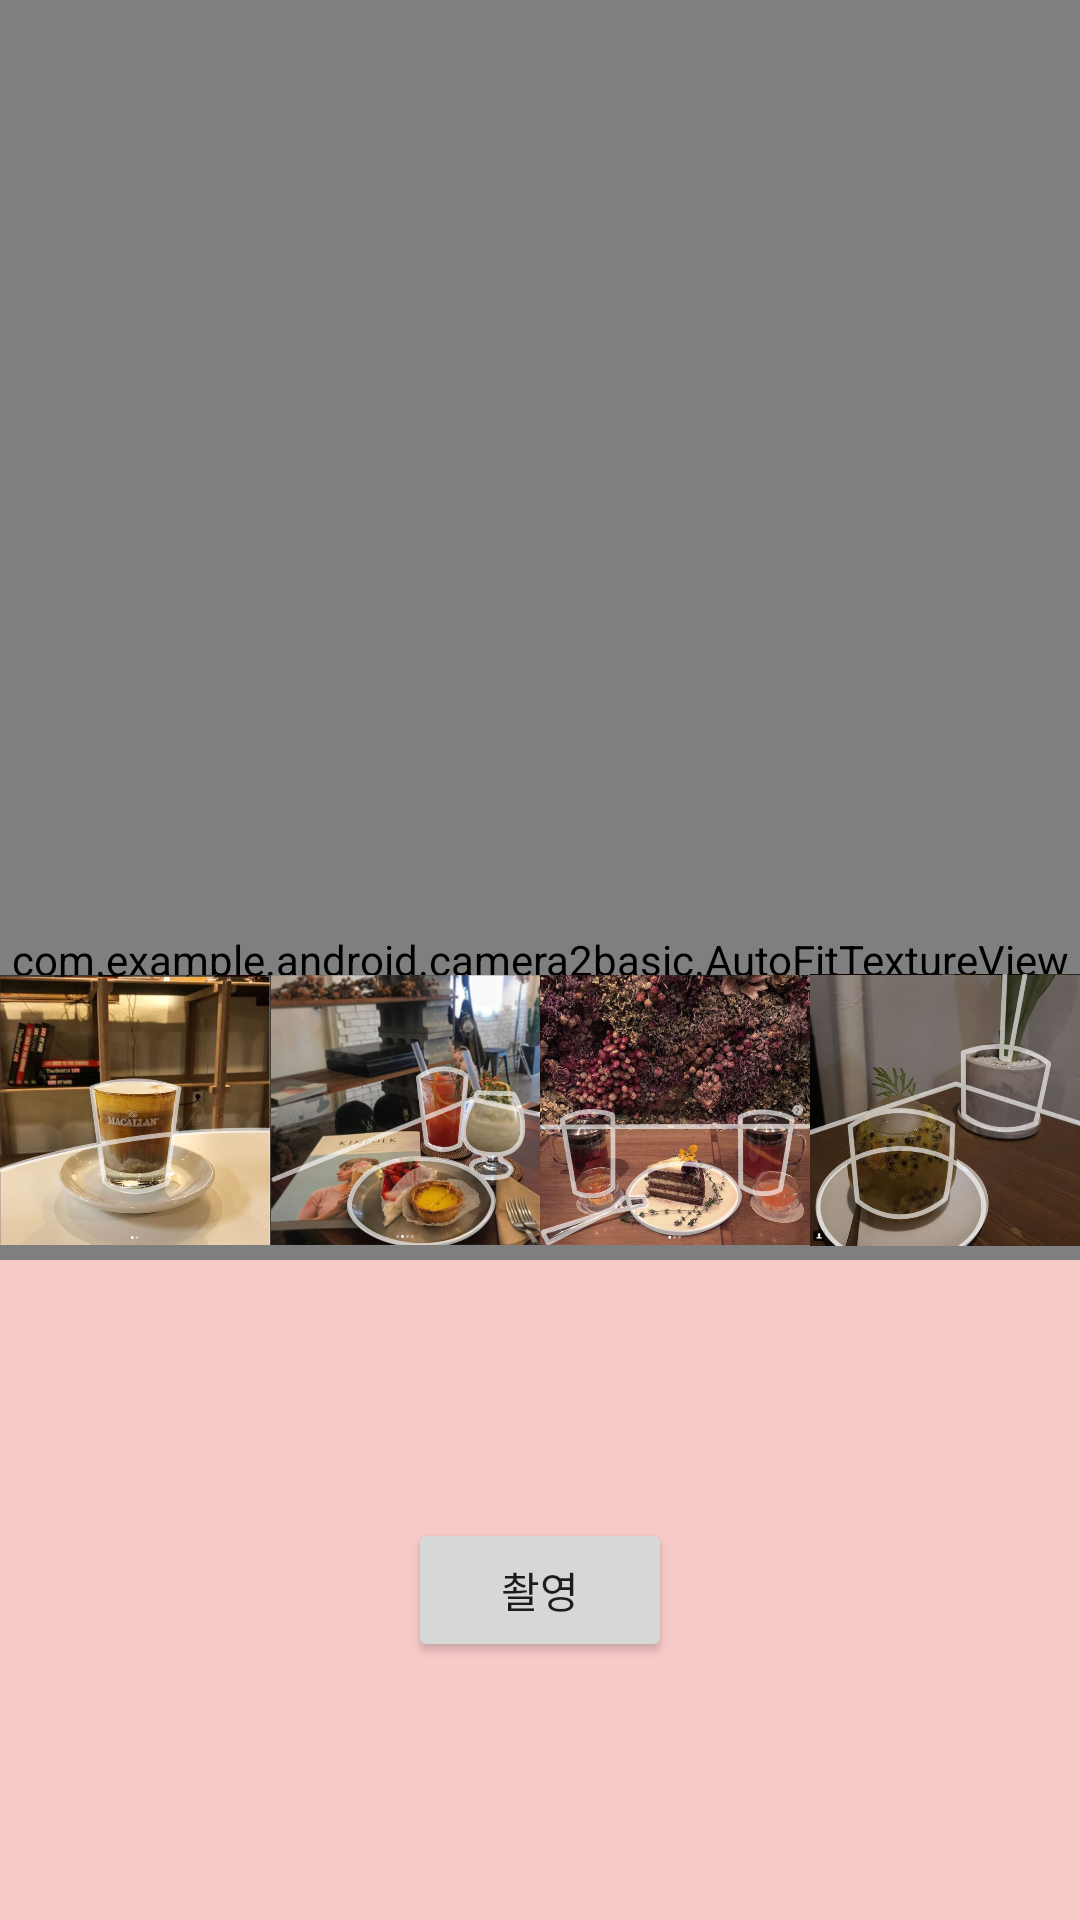

Icon click points for this 1080w x 1920h phone screenshot, format (x,y):
cafeimg: (135,1110), (405,1110), (675,1110), (945,1110)
